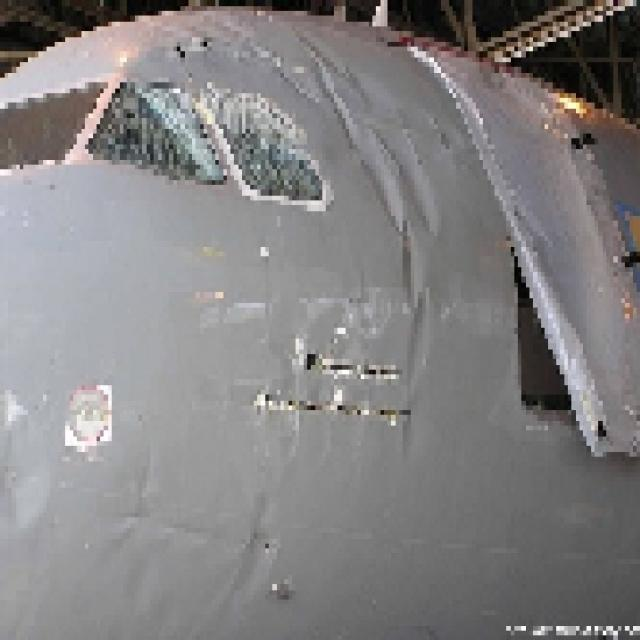crack: (248, 341, 417, 433)
